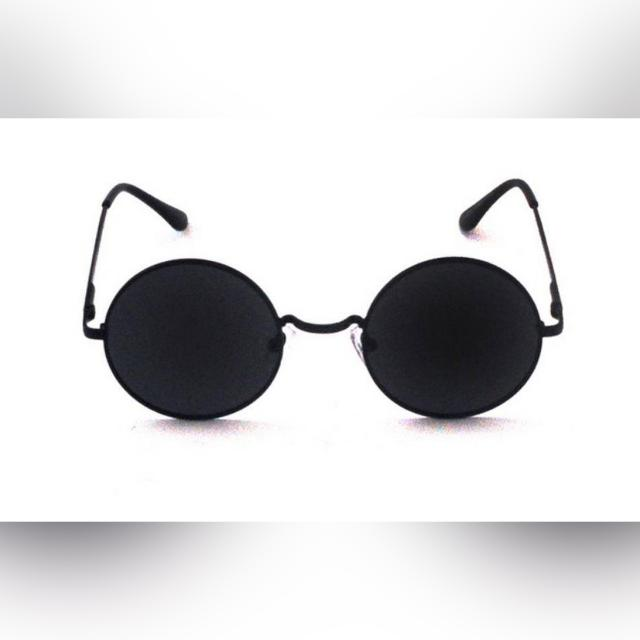Sunglasses: (81, 178, 565, 420)
